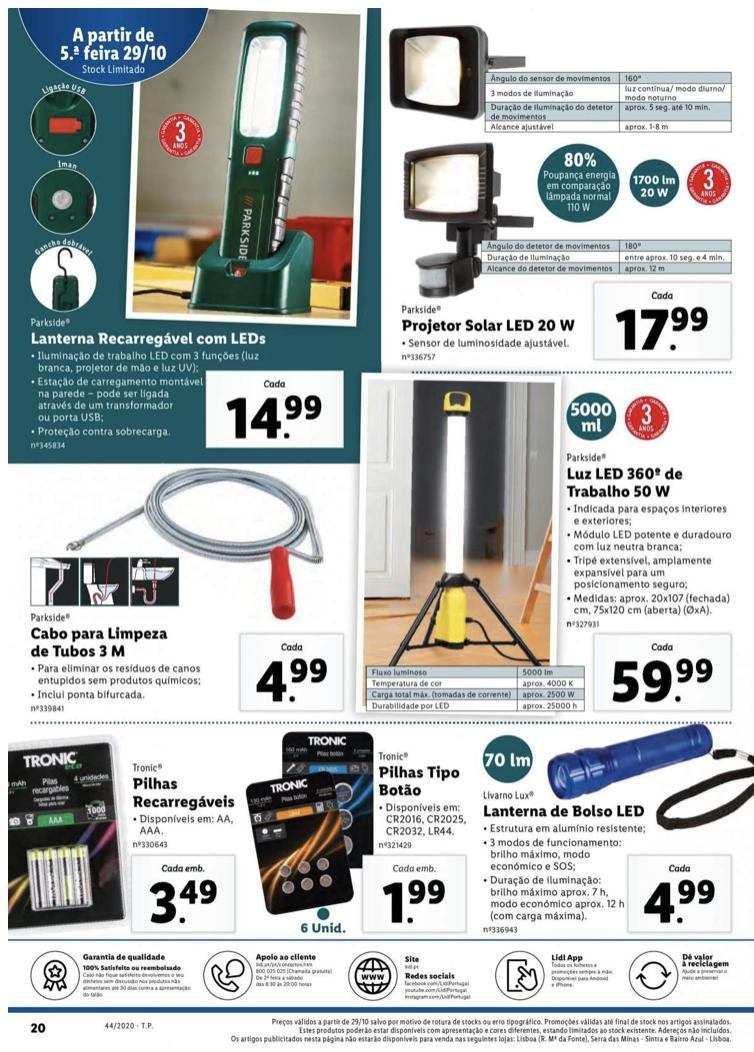name: (30, 328, 273, 349), (561, 461, 688, 501), (28, 626, 173, 661), (128, 774, 239, 813), (397, 314, 582, 336), (480, 800, 645, 822), (378, 760, 461, 796)
price: (609, 656, 717, 706), (610, 305, 713, 354), (225, 395, 326, 439), (640, 877, 721, 928), (144, 875, 218, 927), (256, 657, 330, 705), (378, 879, 443, 922)
product: (19, 21, 358, 449), (386, 18, 745, 365), (367, 383, 745, 710), (21, 482, 340, 712), (478, 731, 744, 936), (245, 731, 478, 928), (10, 735, 240, 932)
